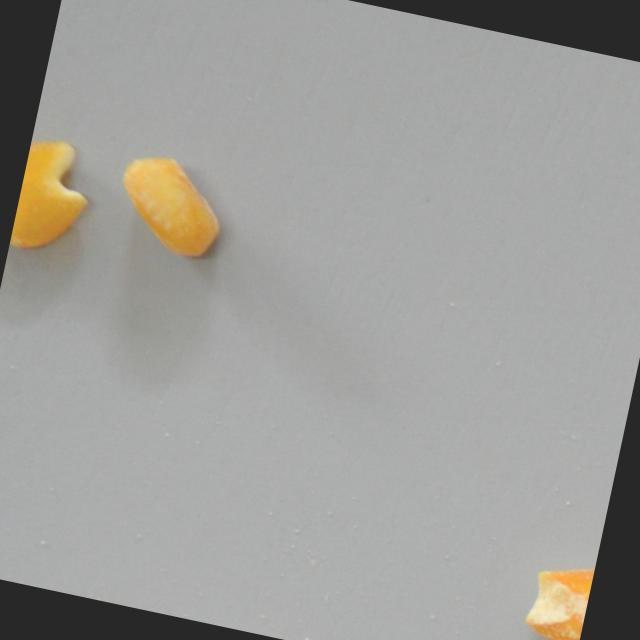dañado: (107, 144, 239, 270), (514, 548, 596, 640)
no_canjicado: (10, 130, 109, 264)
